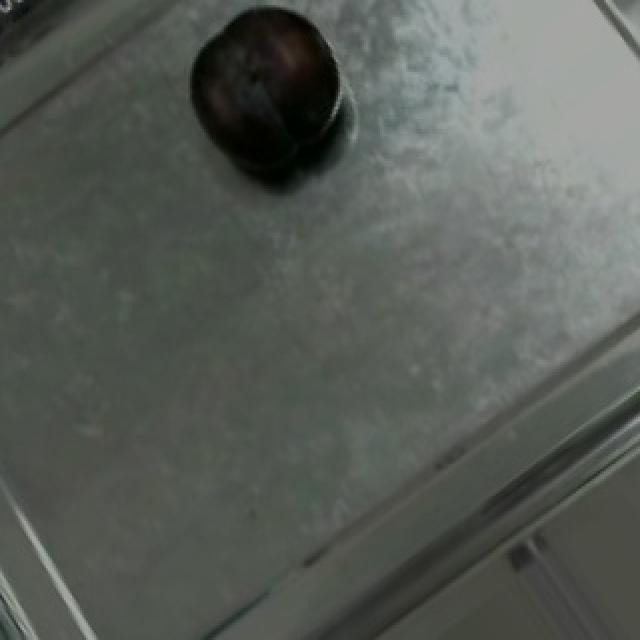Fruit: (170, 0, 368, 203)
